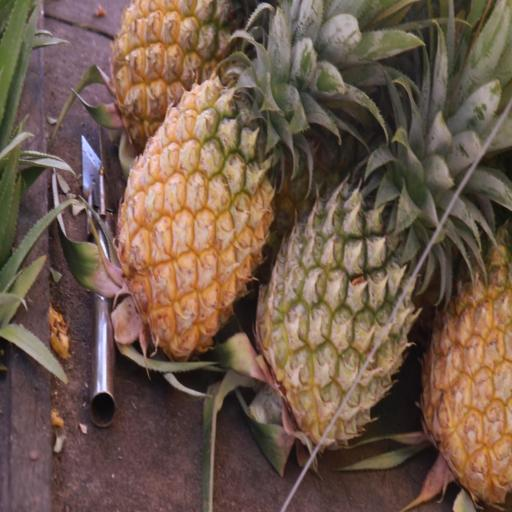Pineapple - v8 v1: (108, 26, 276, 366), (417, 123, 512, 512)
